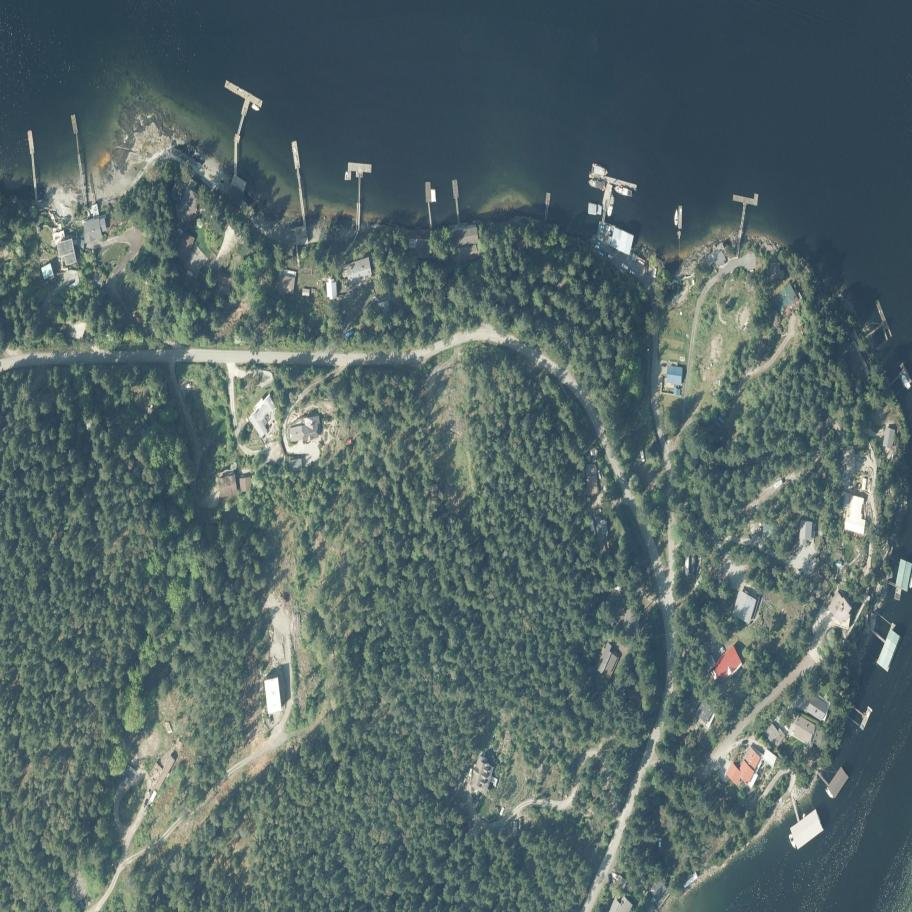ship: (612, 184, 635, 199), (586, 177, 607, 191), (590, 163, 609, 177), (899, 372, 912, 391), (606, 195, 616, 217), (587, 203, 603, 216), (824, 787, 837, 801), (787, 833, 797, 850), (250, 103, 262, 113), (127, 766, 138, 776), (430, 189, 436, 204), (183, 382, 193, 390), (674, 209, 678, 226), (344, 171, 349, 181), (802, 812, 807, 818)
small-vehicle: (639, 449, 646, 463), (719, 644, 727, 654), (620, 263, 630, 271), (596, 469, 602, 480), (607, 254, 616, 261), (653, 267, 658, 279), (500, 806, 505, 816), (614, 585, 622, 591), (629, 270, 637, 276), (597, 251, 605, 257), (468, 768, 473, 777), (645, 262, 648, 274), (658, 838, 661, 848), (661, 363, 667, 367)
